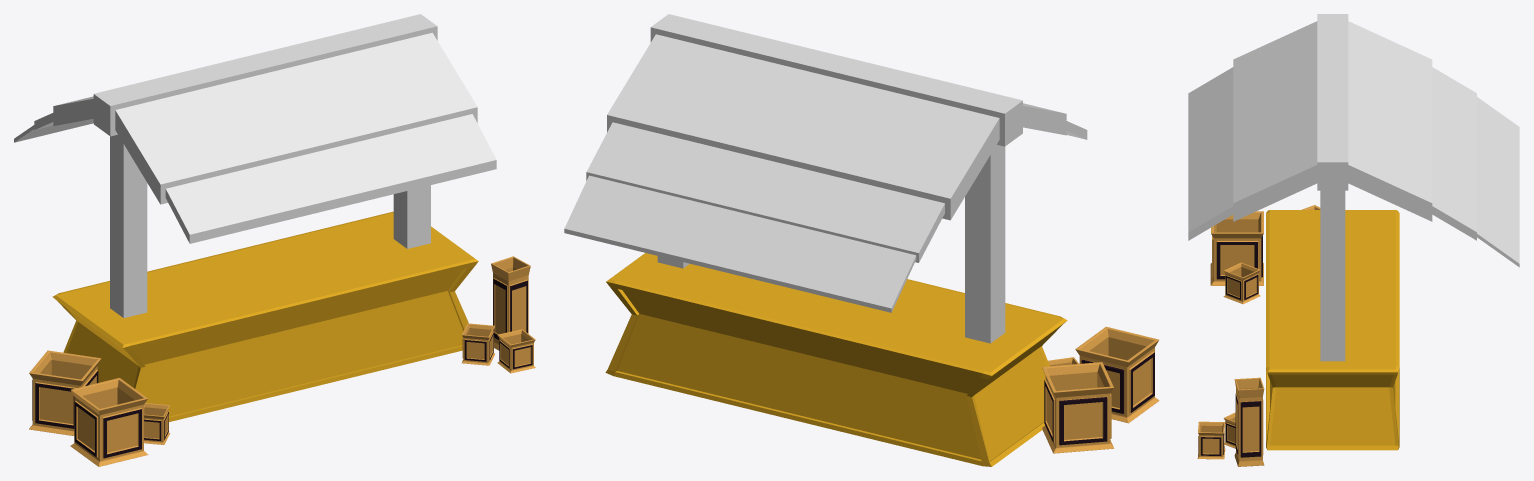
File: Store .fbx
3 renders of one model, left to right at view 1: azimuth 30°, elevation 25°; view 2: azimuth 150°, elevation 25°; view 3: azimuth 270°, elevation 25°, orthographic. The views are drawn at different scales.
Visible parts, largest first — view 1: Cube.007, Cube.003, Cube.008, Cube, Cube.004, Cube.002, Cube.009, Cube.006, Cube.005, Cube.001; view 2: Cube.007, Cube.003, Cube.008, Cube.004, Cube; view 3: Cube.007, Cube.003, Cube.009, Cube, Cube.002, Cube.001, Cube.006, Cube.005.
Boxes of the visible parts, <box> form: Cube.007: <box>14,14,496,243</box>; Cube.003: <box>52,211,478,421</box>; Cube.008: <box>110,134,147,317</box>; Cube: <box>70,378,148,466</box>; Cube.004: <box>29,350,101,435</box>; Cube.002: <box>491,256,530,350</box>; Cube.009: <box>393,185,430,248</box>; Cube.006: <box>497,329,535,373</box>; Cube.005: <box>462,323,494,365</box>; Cube.001: <box>144,403,170,444</box>; Cube.007: <box>564,14,1087,312</box>; Cube.003: <box>605,253,1067,466</box>; Cube.008: <box>965,145,1005,343</box>; Cube.004: <box>1042,362,1114,453</box>; Cube: <box>1075,326,1159,423</box>; Cube.007: <box>1188,14,1519,267</box>; Cube.003: <box>1266,210,1399,450</box>; Cube.009: <box>1320,190,1345,361</box>; Cube: <box>1210,211,1263,285</box>; Cube.002: <box>1234,377,1264,466</box>; Cube.001: <box>1223,262,1260,304</box>; Cube.006: <box>1197,421,1225,459</box>; Cube.005: <box>1223,412,1235,448</box>.
Size of the model in its own units: 1449 by 913 by 971.
